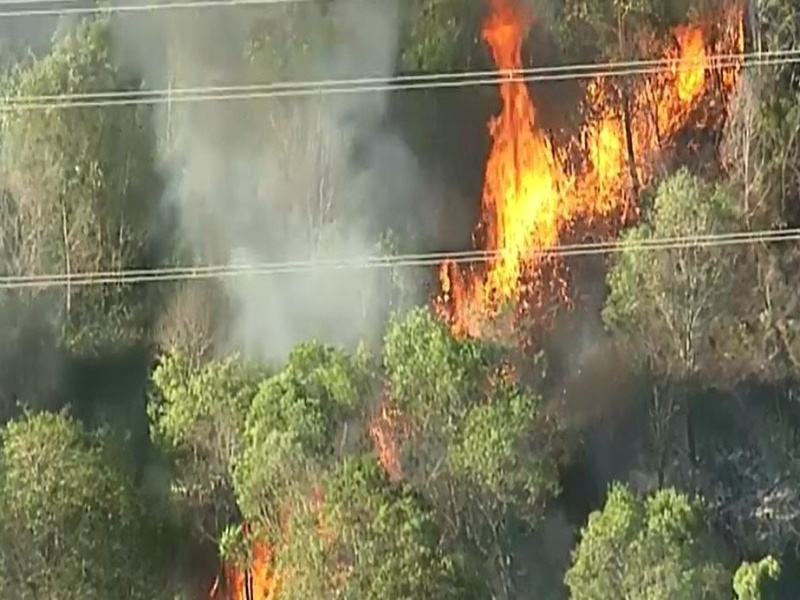smoke: (151, 1, 380, 341)
